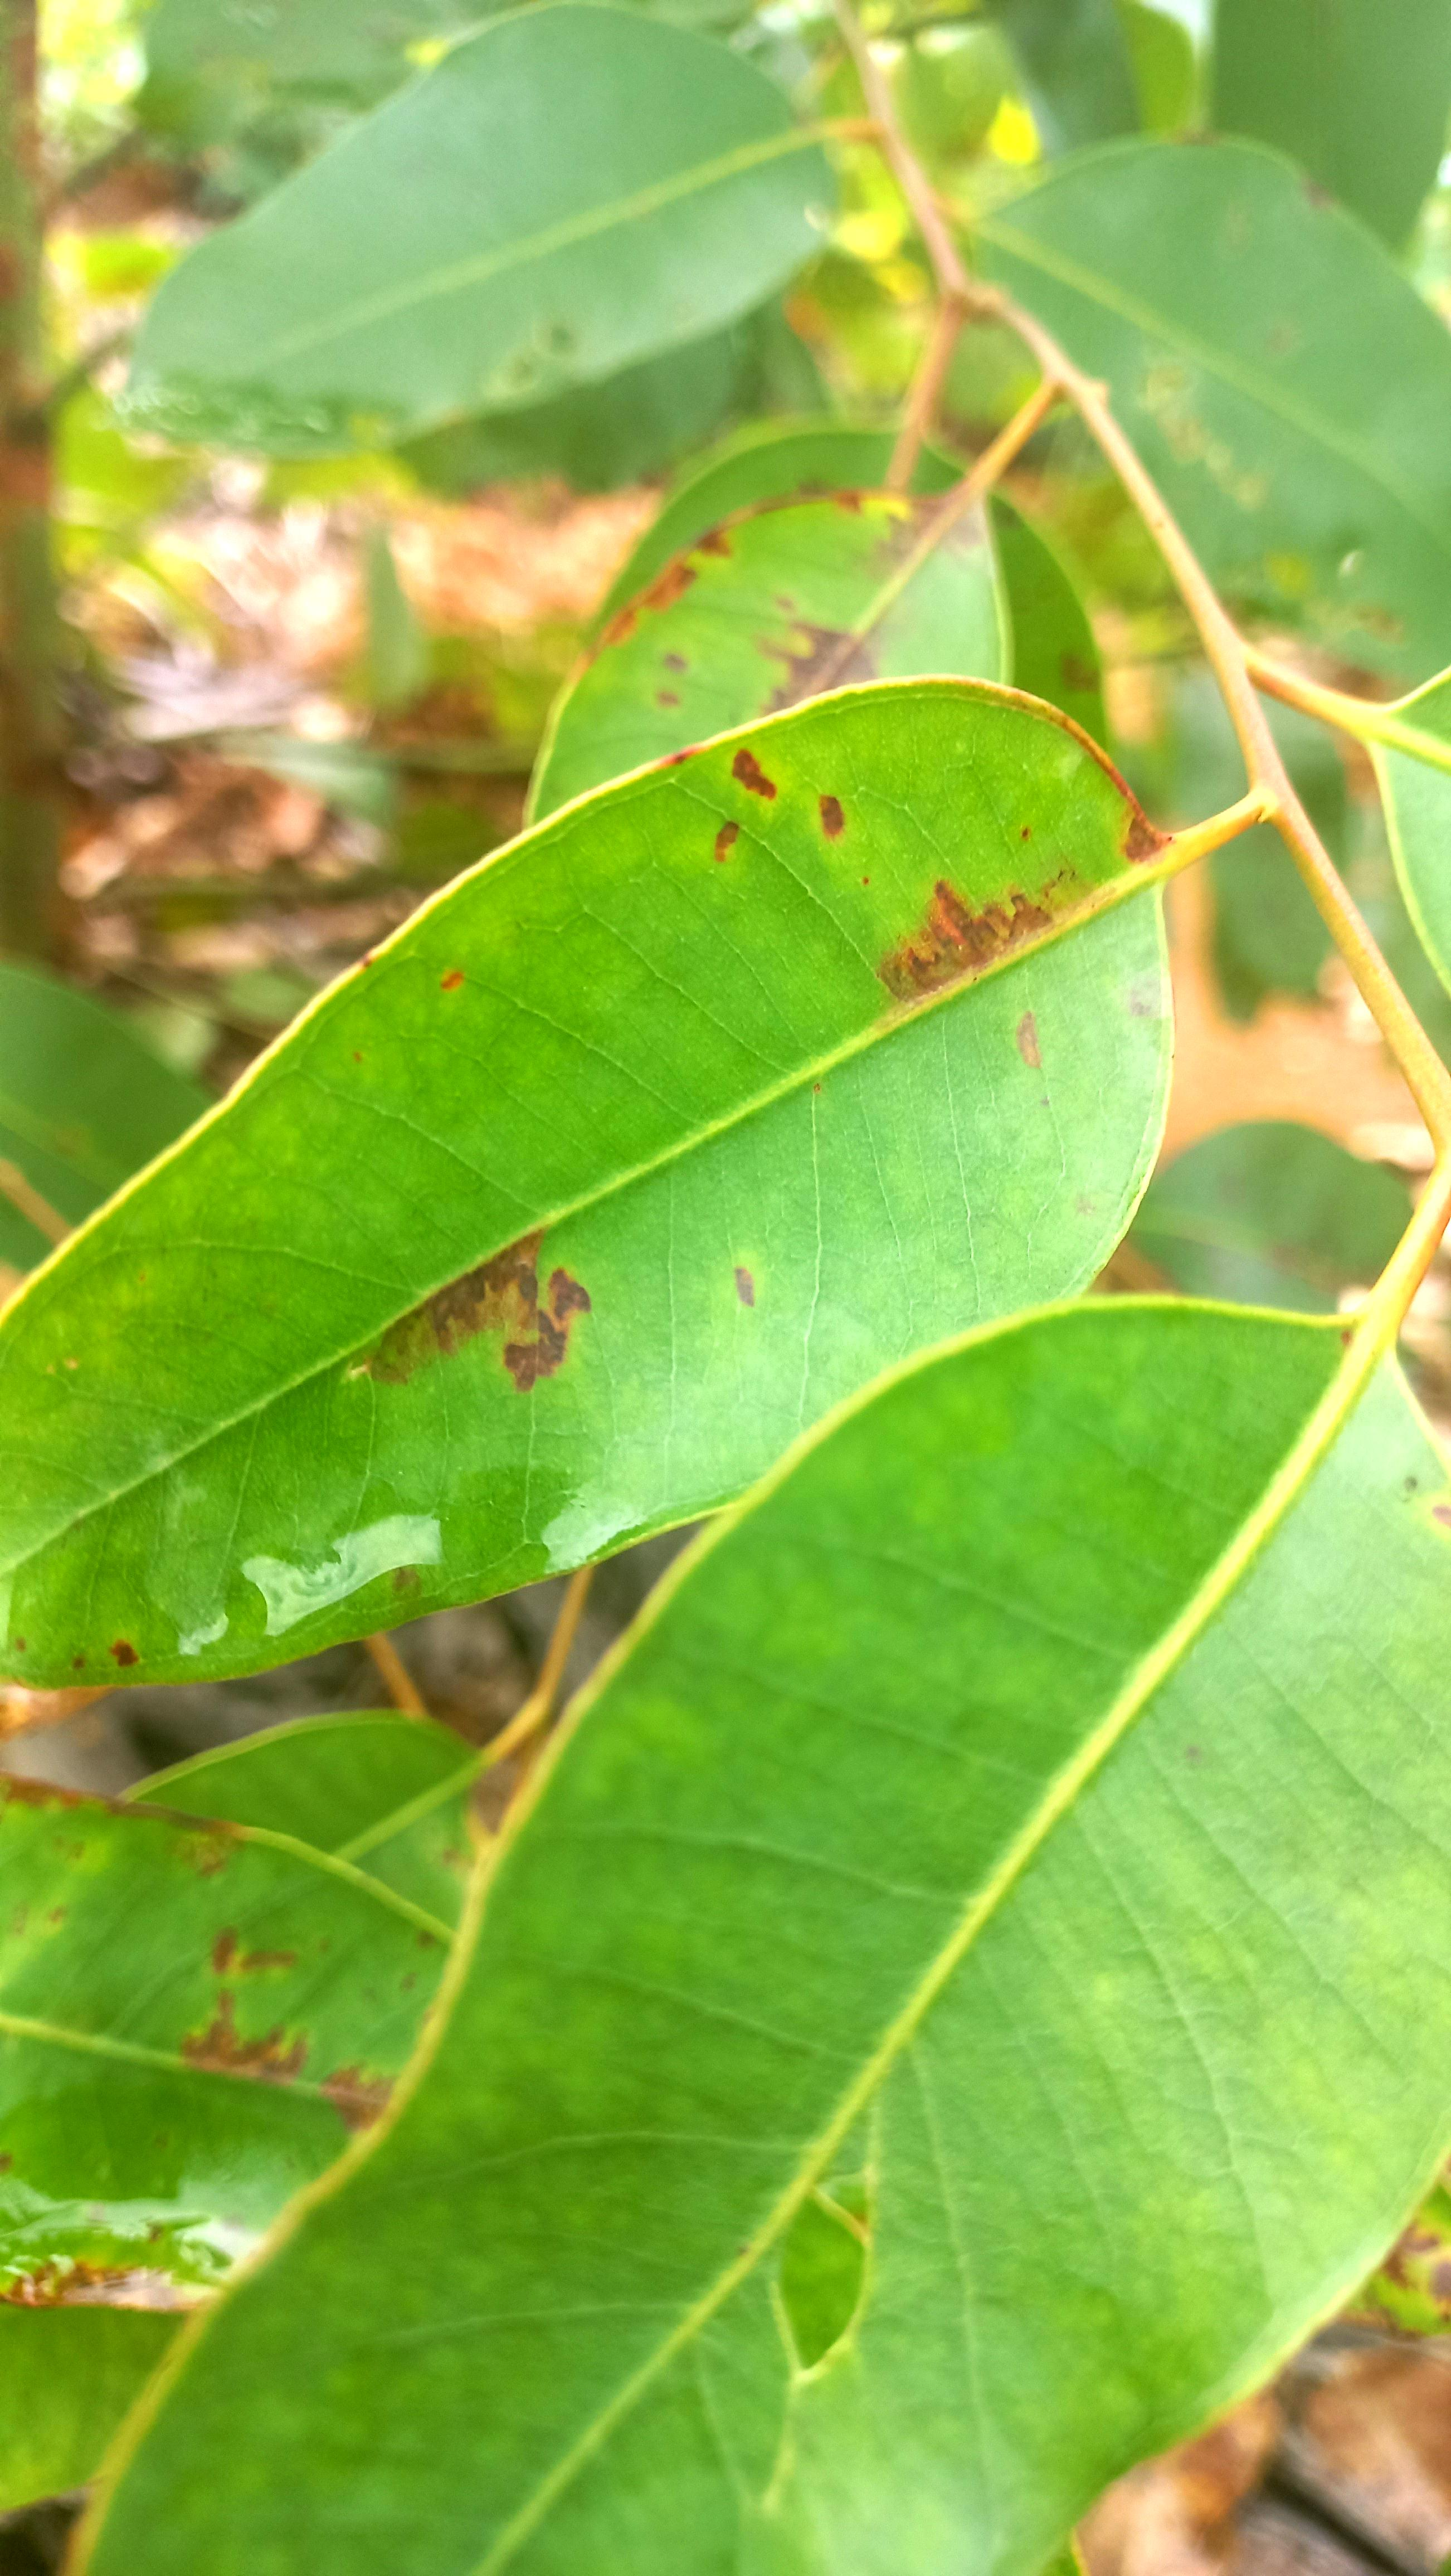Xanthomonas: (0, 676, 1187, 1698), (0, 1796, 457, 2309), (603, 441, 1085, 665)
